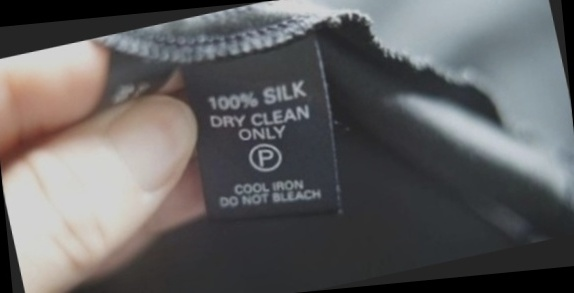dry_clean_any_solvent_except_trichloroethylene: (243, 135, 289, 178)
